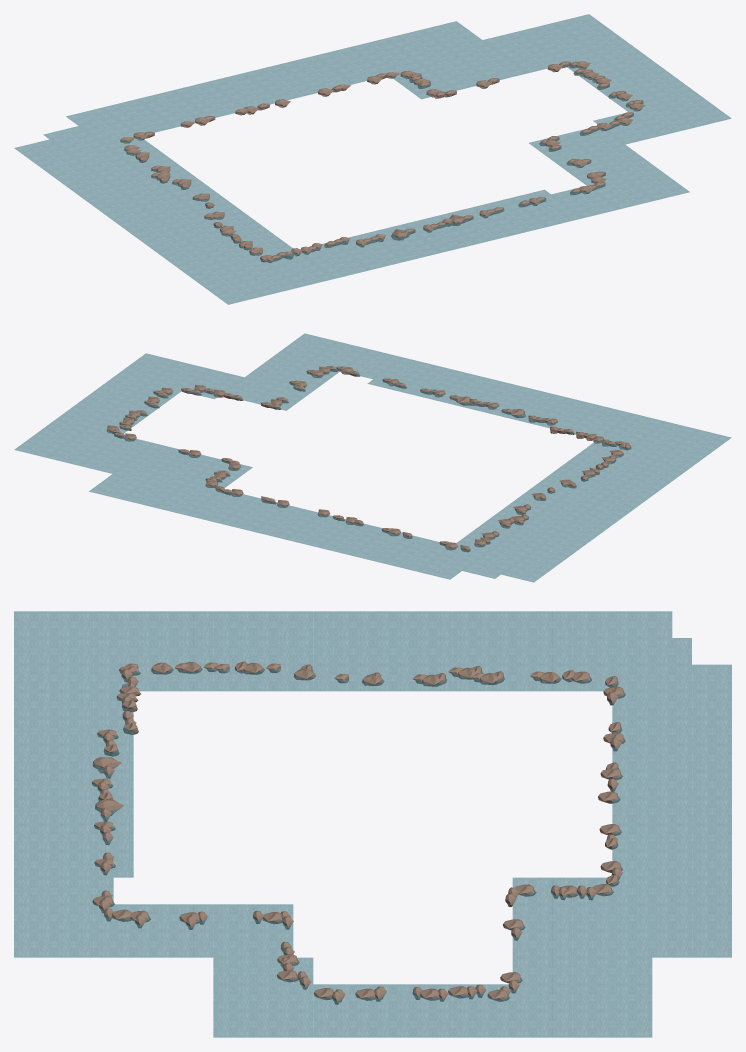
Rendered from shuimianshitou.fbx.
3 views of the same model, one above another, from view 1: azimuth 30°, elevation 25°; view 2: azimuth 150°, elevation 25°; view 3: azimuth 270°, elevation 25° (orthographic). The views are drawn at different scales.
Parts seen in each view (by area): view 1: bing_1.003; view 2: bing_1.003; view 3: bing_1.003.
Boxes of the visible parts, x1,y1,x2,y2 form: bing_1.003: (14,14,731,304); bing_1.003: (14,333,731,582); bing_1.003: (14,611,731,1037).
Bounding box in the file's own units: 50579 × 659 × 36000.
